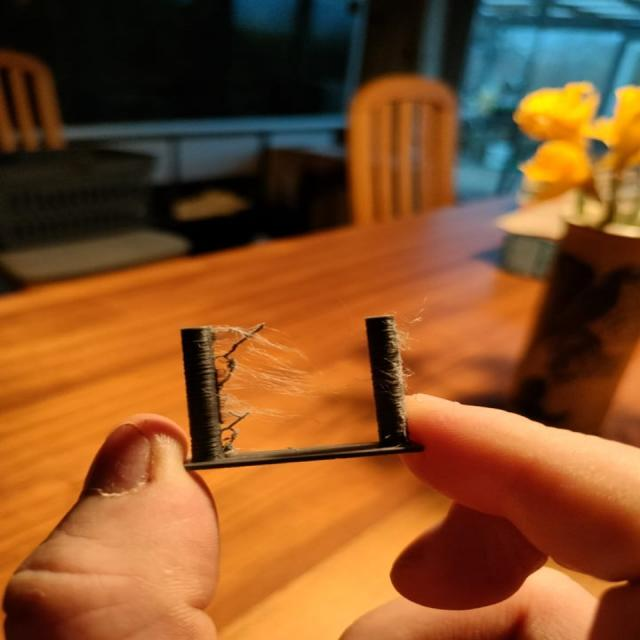Stringing: (210, 330, 312, 394), (215, 414, 253, 448)
